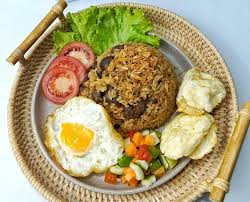Nasi goreng: (89, 42, 182, 136)
Telur ceplok: (39, 99, 127, 176)
